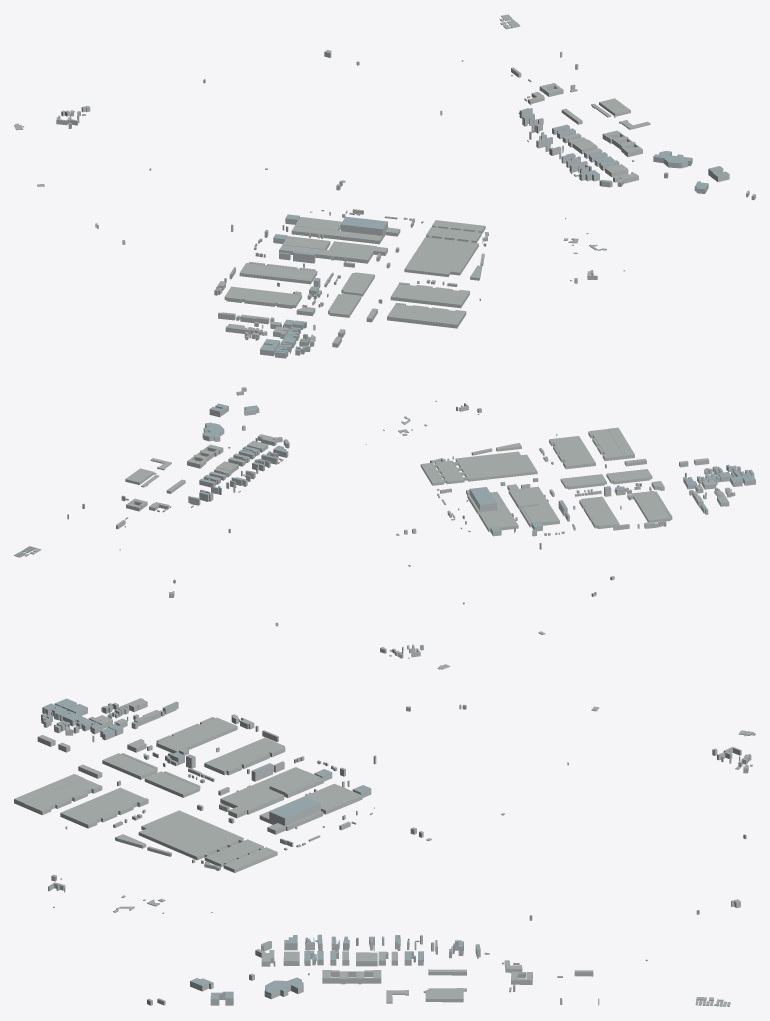
The model's file is far.glb.
The picture shows the model from 3 angles, top to bottom: view 1: azimuth 30°, elevation 25°; view 2: azimuth 150°, elevation 25°; view 3: azimuth 270°, elevation 25°; orthographic projection. The views are drawn at different scales.
Size of the model in its own units: 2129 by 38.07 by 2197.
